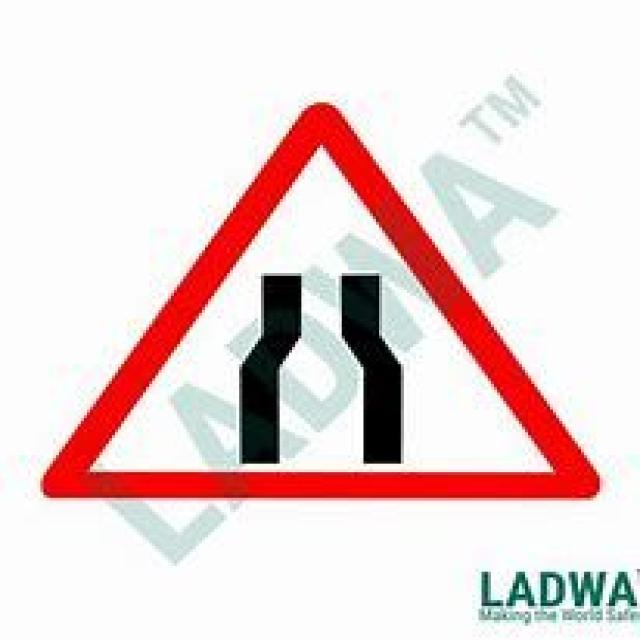NARROW_ROAD_AHEAD: (39, 99, 601, 499)
